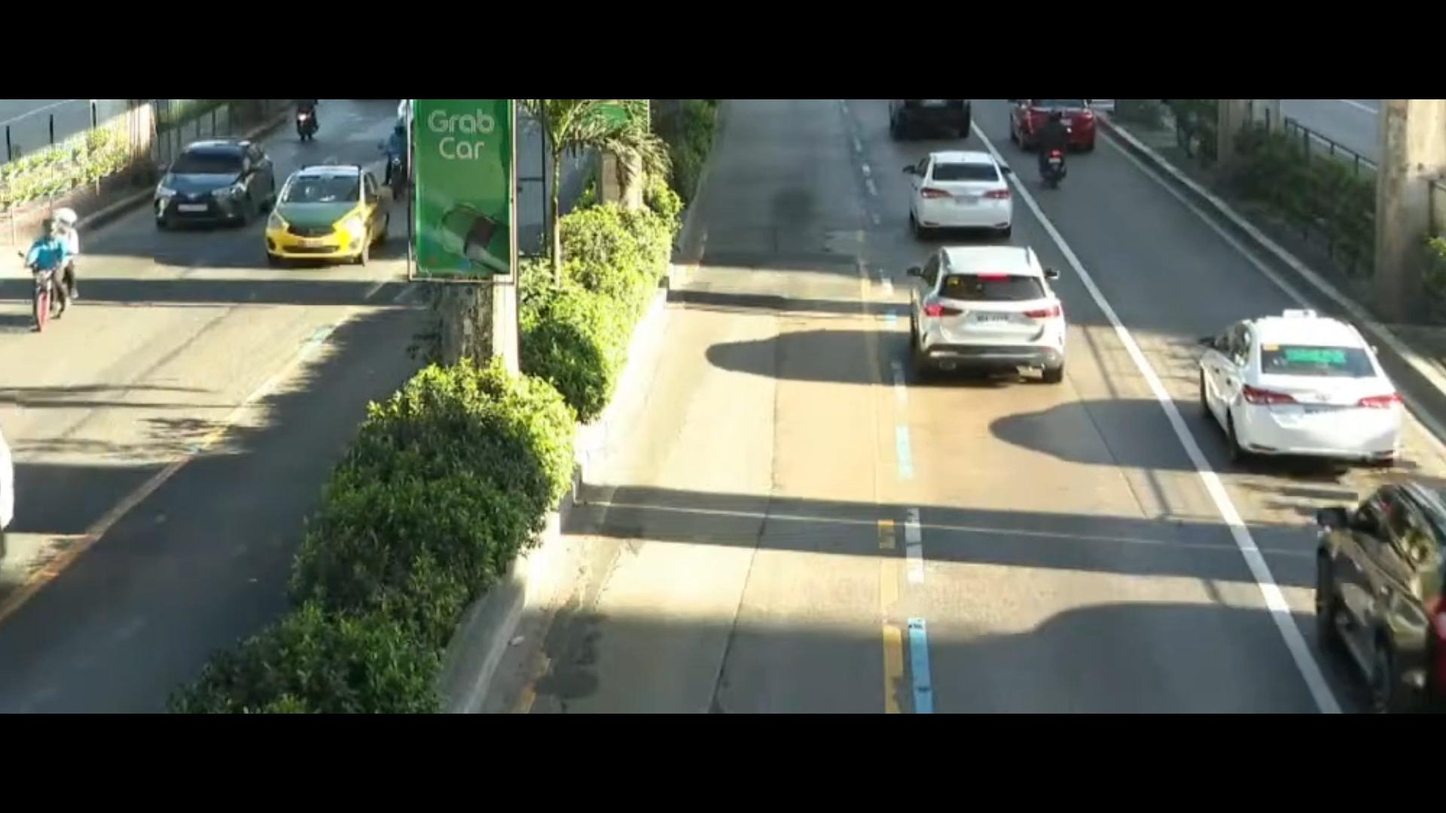Motorcycle: (16, 207, 104, 325), (1031, 119, 1083, 196), (369, 123, 411, 197), (283, 104, 336, 140)
SUV: (1236, 450, 1446, 708), (866, 239, 1107, 407)
Sedan: (1180, 296, 1435, 473), (253, 145, 393, 274), (890, 132, 1022, 247), (150, 134, 283, 230)
